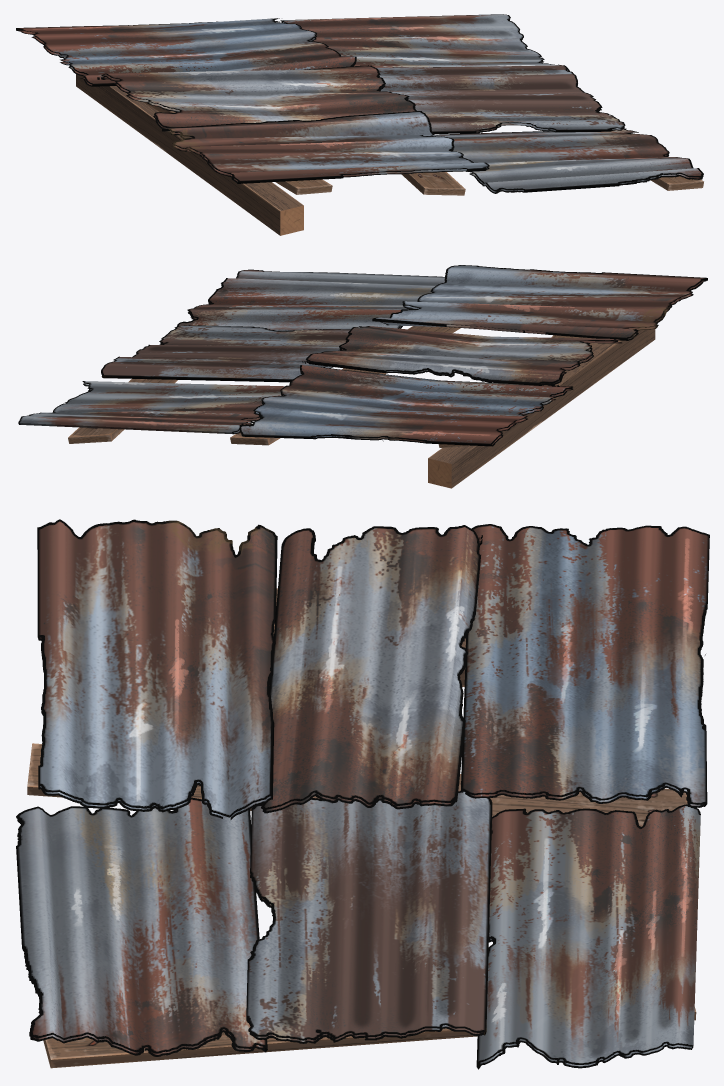
Rendered from roof05_3m.fbx.
3 renders of one model, top to bottom at view 1: azimuth 30°, elevation 25°; view 2: azimuth 150°, elevation 25°; view 3: azimuth 270°, elevation 25°, orthographic. The views are drawn at different scales.
Parts seen in each view (by area): view 1: roof05_3m; view 2: roof05_3m; view 3: roof05_3m.
Boxes of the visible parts, x1=… form: roof05_3m: x1=16, y1=14, x2=703, y2=235; roof05_3m: x1=18, y1=265, x2=707, y2=488; roof05_3m: x1=16, y1=519, x2=709, y2=1069.
Bounding box in the file's own units: 419 × 104 × 333.
